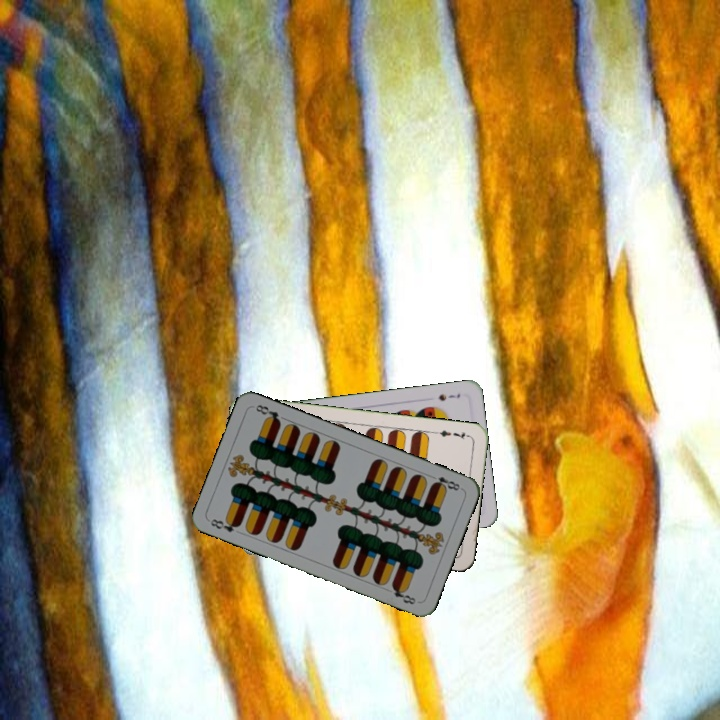E7: (432, 426, 472, 442)
E8: (426, 471, 464, 493), (206, 515, 243, 535)
S7: (434, 389, 463, 403)
